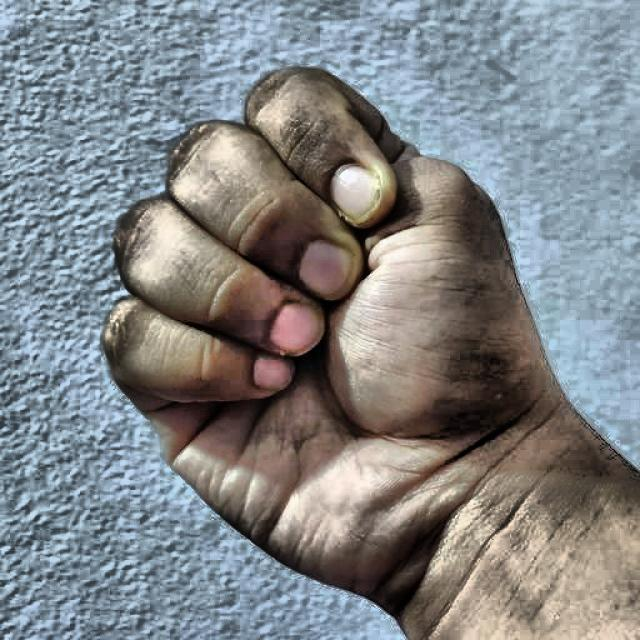To: (71, 32, 562, 621)
